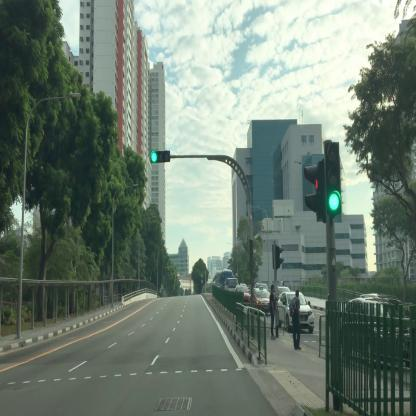green_traffic_light: (323, 141, 341, 212), (151, 150, 170, 164)
